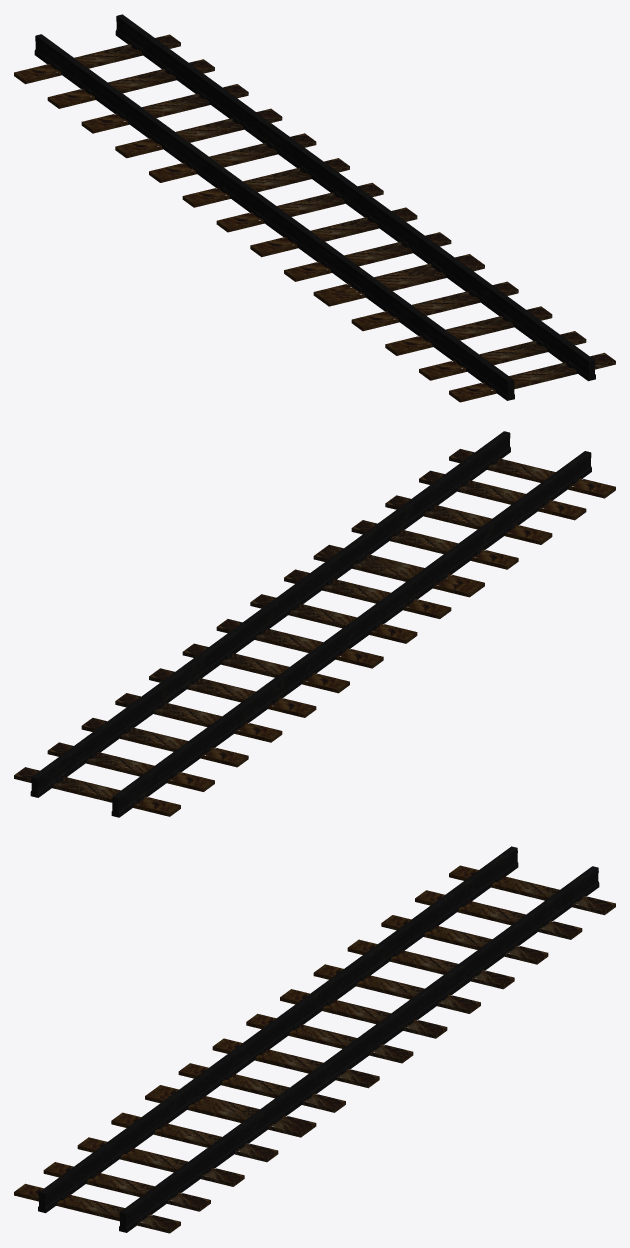
File: track.gltf
The picture shows the model from 3 angles, top to bottom: view 1: azimuth 30°, elevation 25°; view 2: azimuth 150°, elevation 25°; view 3: azimuth 330°, elevation 25°; orthographic projection.
Parts seen in each view (by area): view 1: Track_01polySurface161_lambert1_0.006, Track_01polySurface161_lambert1_0.001; view 2: Track_01polySurface161_lambert1_0.001, Track_01polySurface161_lambert1_0.006; view 3: Track_01polySurface161_lambert1_0.006, Track_01polySurface161_lambert1_0.001.
Boxes of the visible parts, x1,y1,x2,y2 form: Track_01polySurface161_lambert1_0.006: (149, 113, 615, 402); Track_01polySurface161_lambert1_0.001: (14, 14, 480, 302); Track_01polySurface161_lambert1_0.001: (14, 530, 480, 817); Track_01polySurface161_lambert1_0.006: (150, 431, 615, 718); Track_01polySurface161_lambert1_0.006: (14, 945, 480, 1233); Track_01polySurface161_lambert1_0.001: (149, 846, 615, 1134).
Bounding box in the file's own units: 40 × 5.12 × 210.
1 material, 1 textured.
